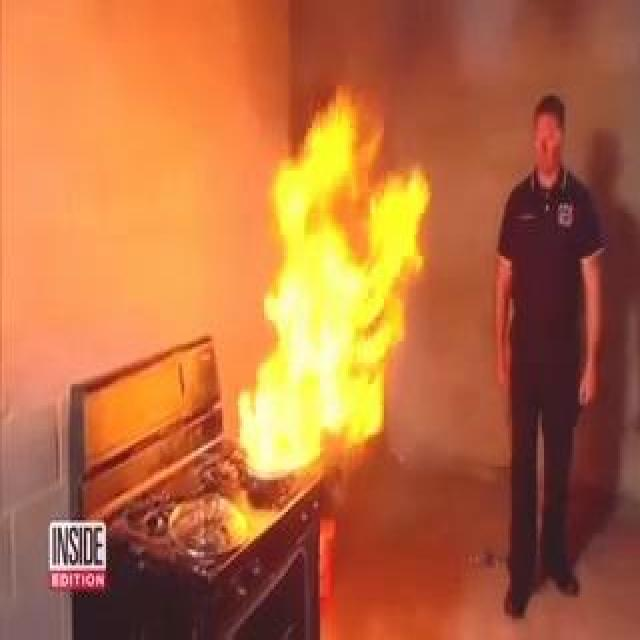Fire: (239, 99, 435, 482)
